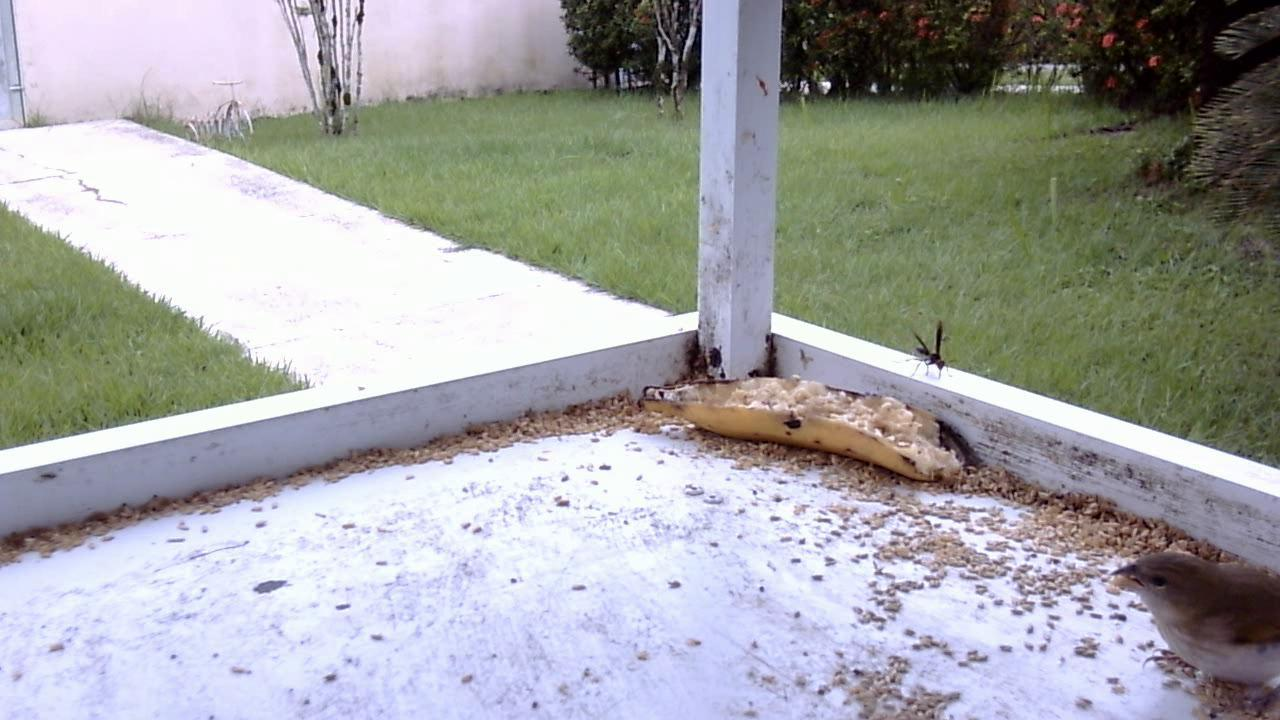canario_do_amazonas: (1105, 543, 1278, 715)
